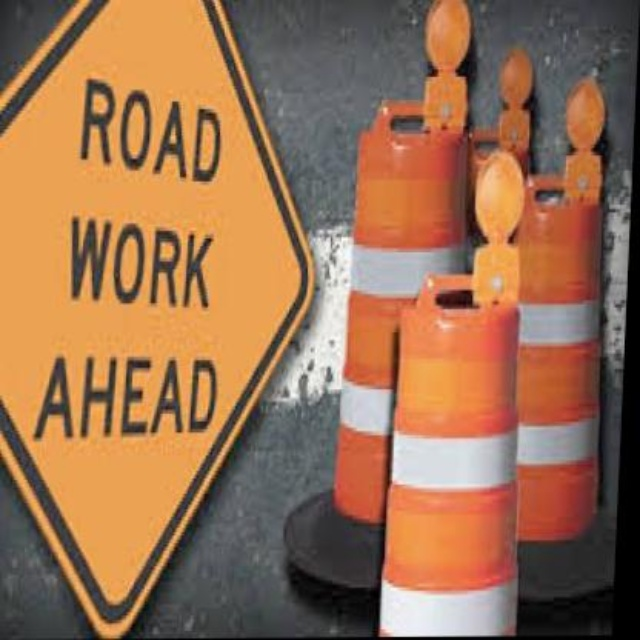obstacle: (379, 271, 539, 637)
